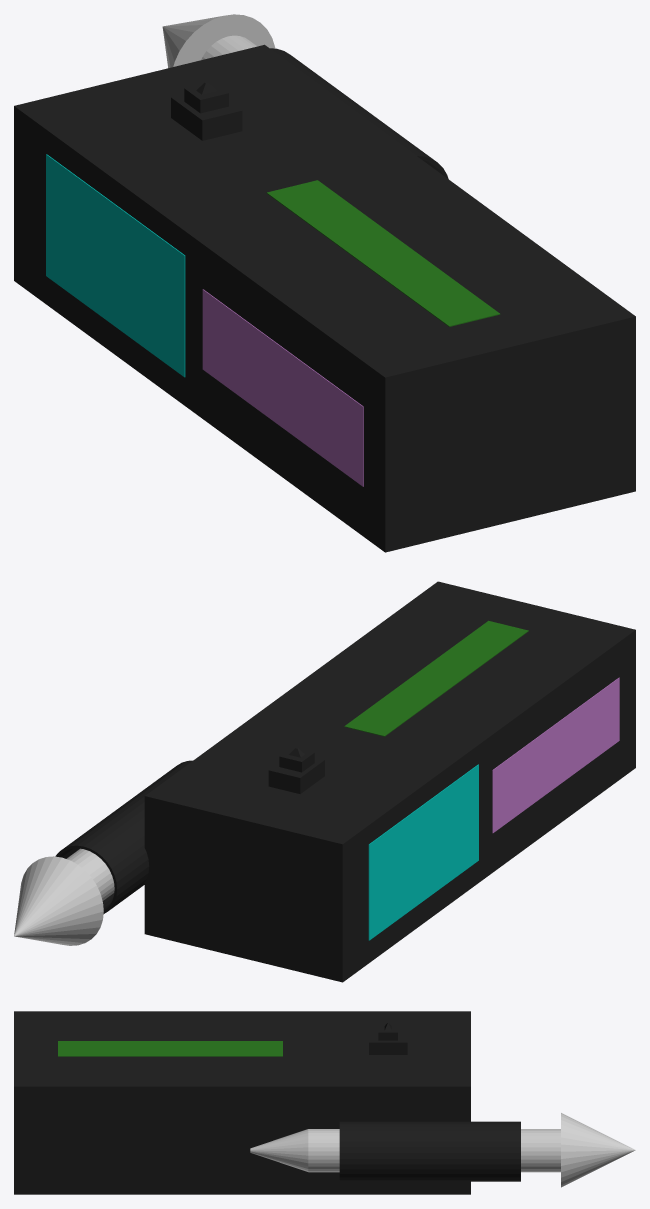
The model's file is HandRight.FBX.
3 views of the same model, one above another, from view 1: azimuth 30°, elevation 25°; view 2: azimuth 150°, elevation 25°; view 3: azimuth 270°, elevation 25° (orthographic). The views are drawn at different scales.
Visible parts, largest first — view 1: Cube.002, Screen 004, Screen 003, Jauge001, Gizmo001, Gizmo Holder001; view 2: Cube.002, Screen 004, Screen 003, Gizmo001, Jauge001, Gizmo Holder001; view 3: Cube.002, Gizmo Holder001, Gizmo001, Jauge001.
Part boxes in pixels (<box>): Cube.002: <box>14,44,635,552</box>; Screen 004: <box>46,154,185,377</box>; Screen 003: <box>202,289,363,486</box>; Jauge001: <box>266,180,500,326</box>; Gizmo001: <box>162,14,275,68</box>; Gizmo Holder001: <box>270,48,448,178</box>; Cube.002: <box>144,581,635,982</box>; Screen 004: <box>368,764,478,940</box>; Screen 003: <box>492,677,619,833</box>; Gizmo001: <box>14,848,114,945</box>; Jauge001: <box>344,620,528,736</box>; Gizmo Holder001: <box>55,760,192,913</box>; Cube.002: <box>14,1011,470,1194</box>; Gizmo Holder001: <box>339,1121,520,1181</box>; Gizmo001: <box>250,1113,635,1187</box>; Jauge001: <box>58,1041,282,1056</box>.
Bounding box in the file's own units: 8.04 × 4.96 × 20.94.
